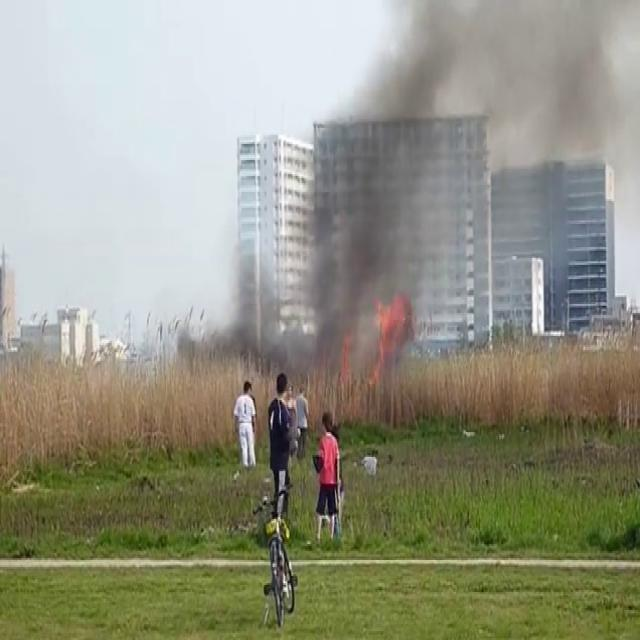Smoke: (296, 0, 640, 366)
